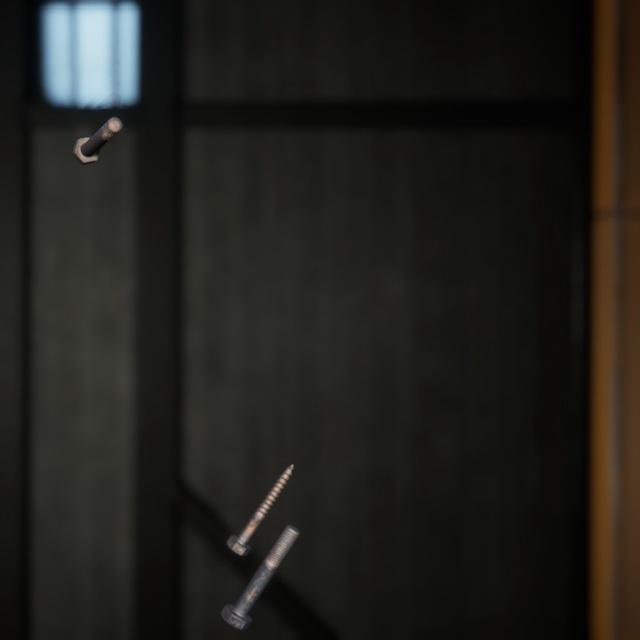bolt: (216, 496, 304, 611), (222, 436, 299, 538), (68, 100, 126, 156)
